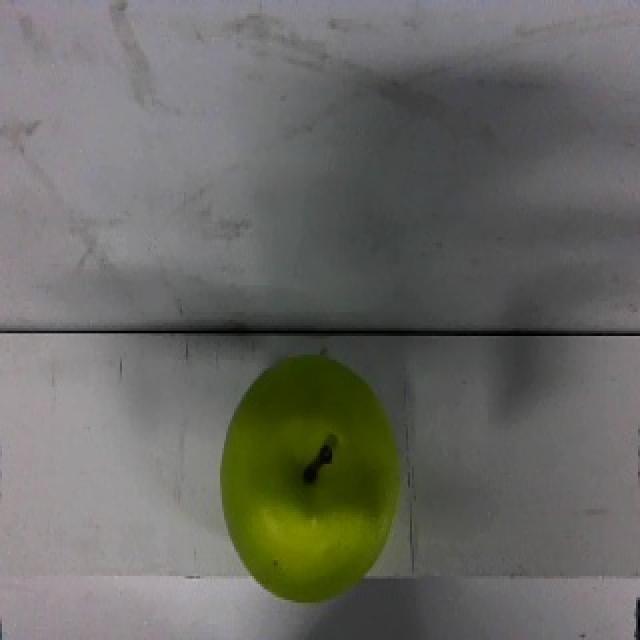apple: (217, 347, 403, 607)
